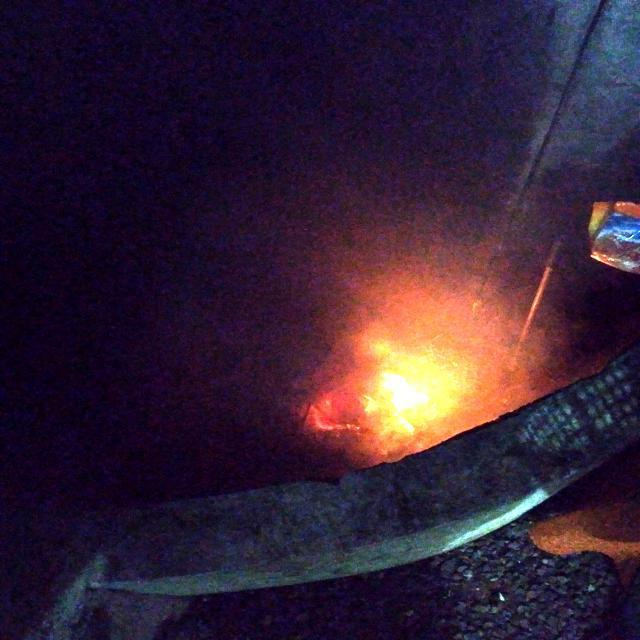Fire: (367, 360, 434, 428)
Smoke: (361, 237, 549, 374)
